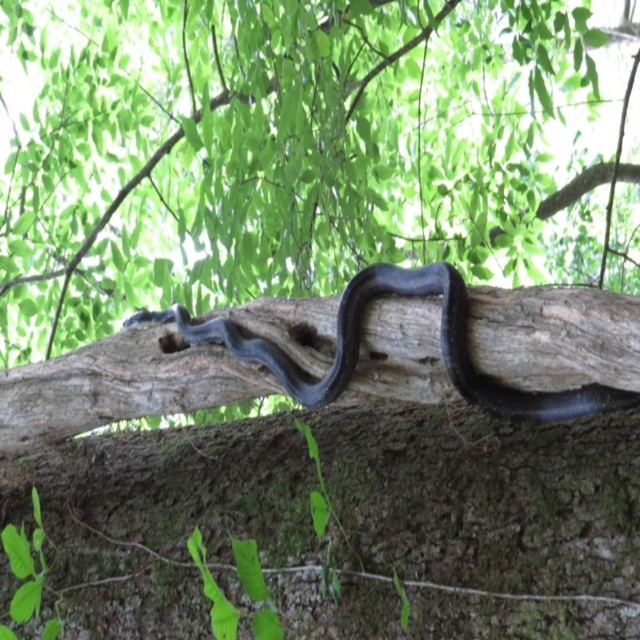Snake: (121, 256, 638, 423)
